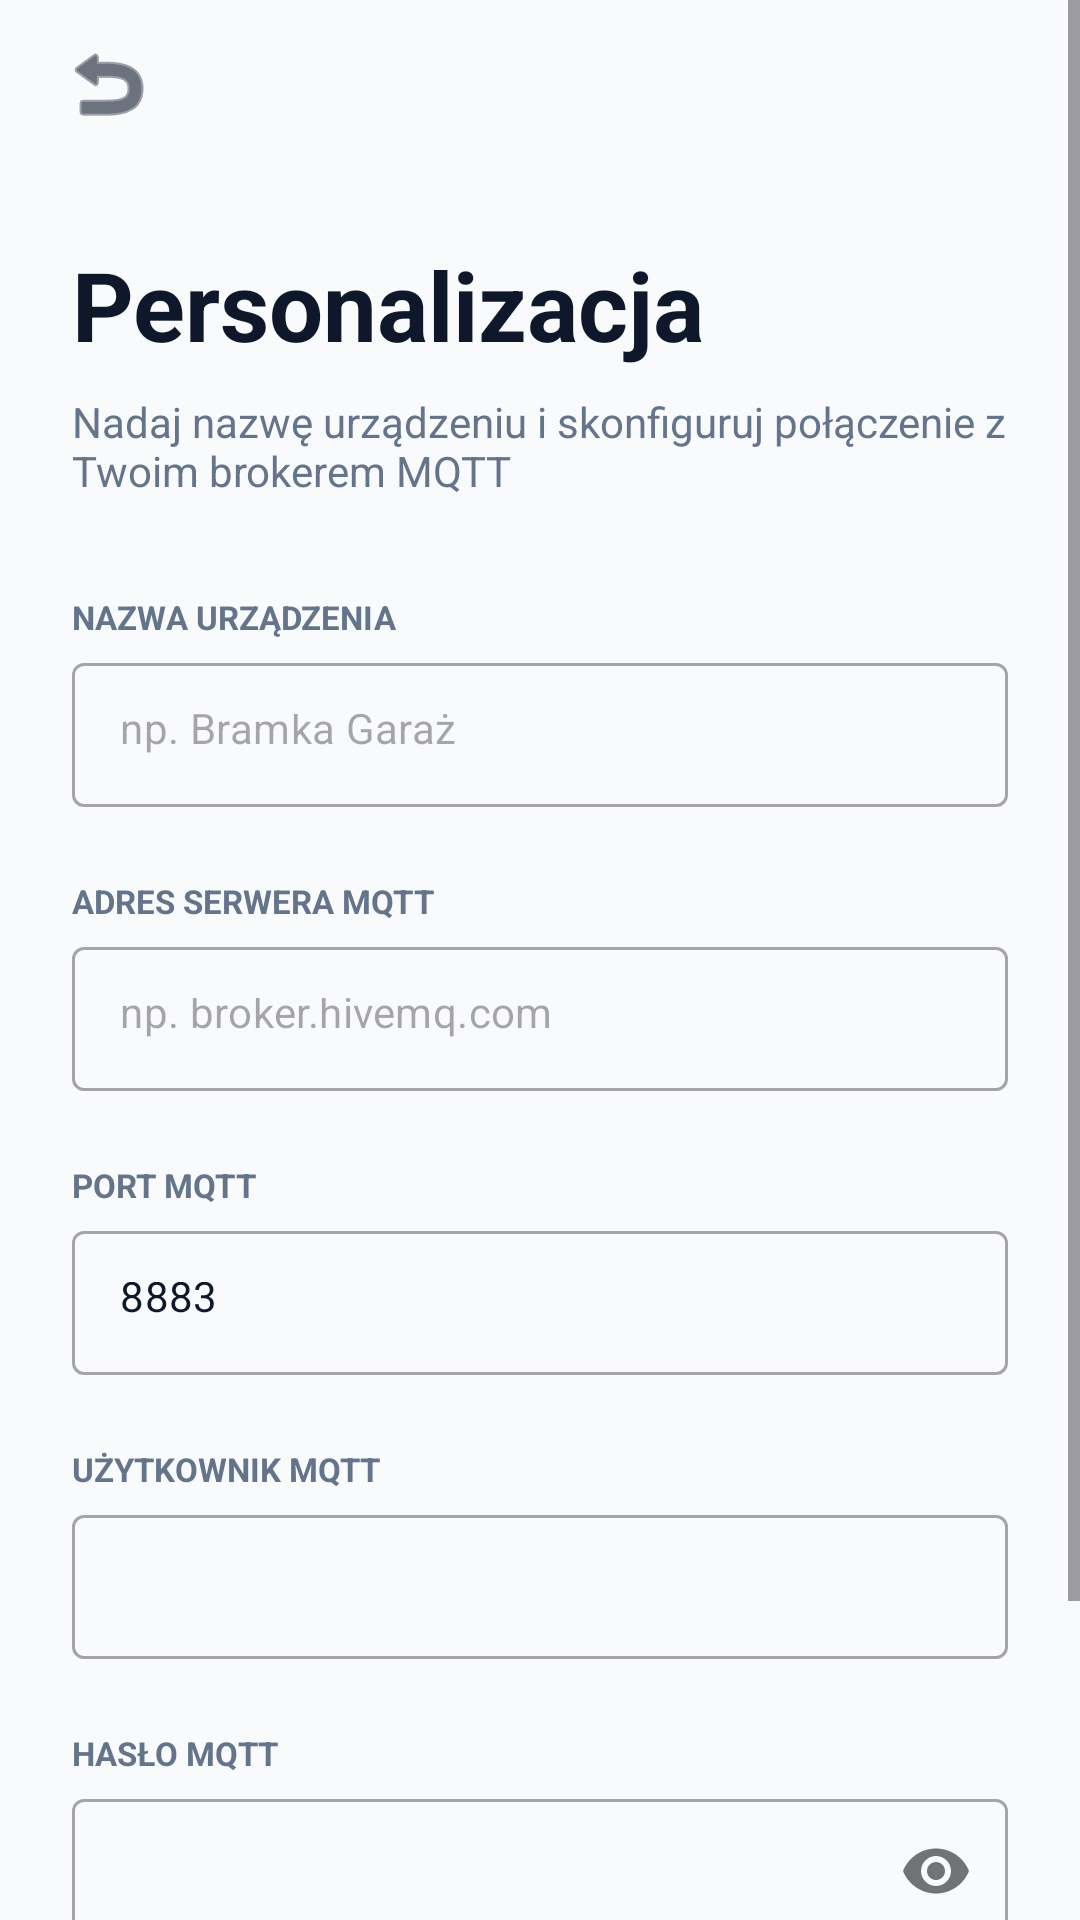

Icon click points for this 1080 x 1920 phone screenshot, format (x=x, y=y):
revert: (x=109, y=84)
